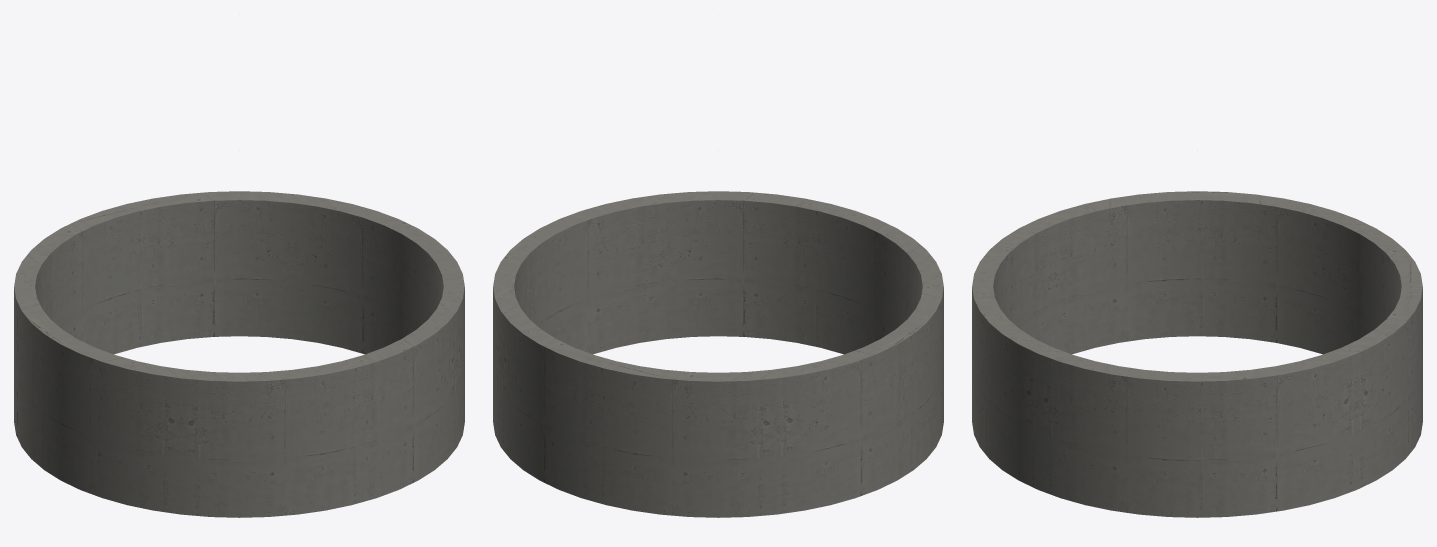
Rendered from HID-TRT-003_anim.glb.
The picture shows the model from 3 angles, left to right: view 1: azimuth 30°, elevation 25°; view 2: azimuth 150°, elevation 25°; view 3: azimuth 270°, elevation 25°; orthographic projection.
Parts seen in each view (by area): view 1: HID-TRT-003_anim0; view 2: HID-TRT-003_anim0; view 3: HID-TRT-003_anim0.
Boxes of the visible parts, box(x1,y1,x2,y2) form: HID-TRT-003_anim0: box(14, 191, 464, 517); HID-TRT-003_anim0: box(493, 191, 943, 517); HID-TRT-003_anim0: box(972, 191, 1422, 517).
Size of the model in its own units: 1.58 by 1.91 by 1.5.
3 materials, 1 textured.
